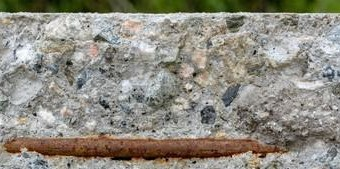Exposed reinforcement: (2, 137, 281, 159)
Spalling: (1, 11, 340, 169)
